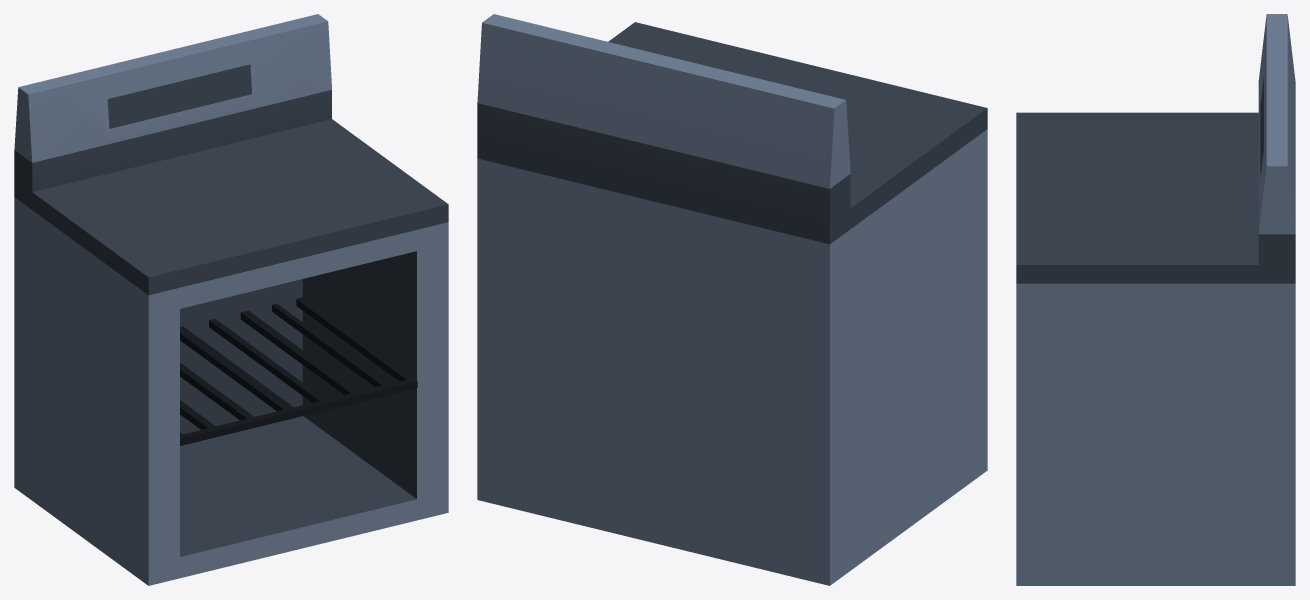
File: oven.fbx
The picture shows the model from 3 angles, left to right: view 1: azimuth 30°, elevation 25°; view 2: azimuth 150°, elevation 25°; view 3: azimuth 270°, elevation 25°; orthographic projection. The views are drawn at different scales.
Parts seen in each view (by area): view 1: pCube1; view 2: pCube1; view 3: pCube1.
Boxes of the visible parts, x1,y1,x2,y2 form: pCube1: [14, 14, 448, 585]; pCube1: [477, 14, 987, 585]; pCube1: [1016, 14, 1295, 585].
Bounding box in the file's own units: 5.79 × 7.45 × 4.49.
